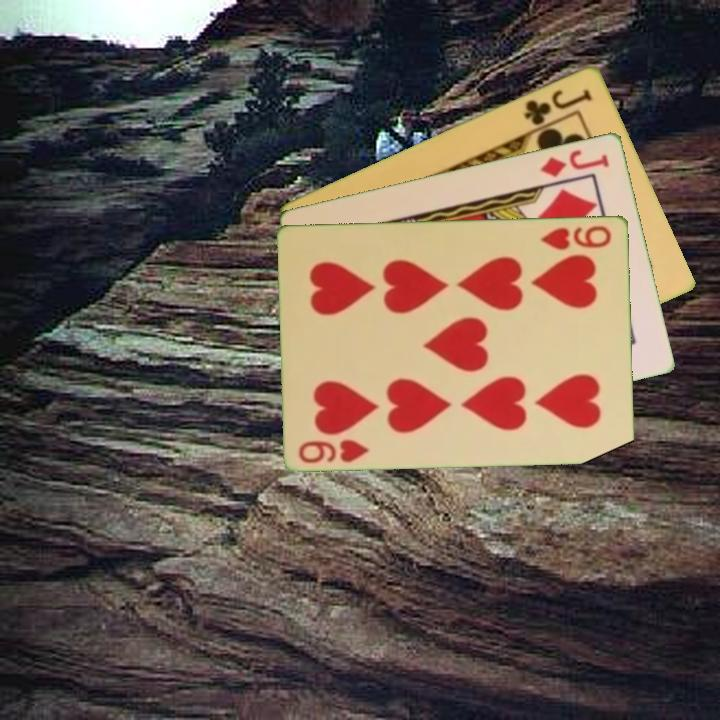9h: (538, 221, 614, 253), (295, 435, 372, 466)
Jc: (520, 84, 596, 128)
Jd: (536, 145, 613, 180)
